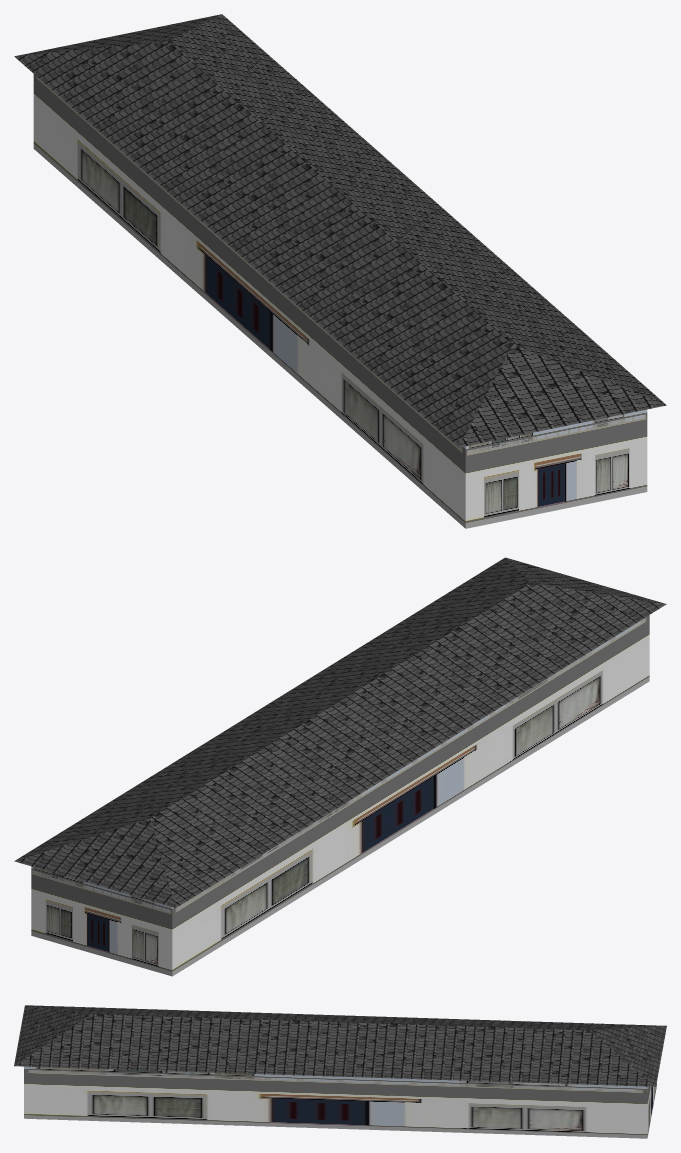
3 renders of one model, top to bottom at view 1: azimuth 30°, elevation 25°; view 2: azimuth 150°, elevation 25°; view 3: azimuth 270°, elevation 25°, orthographic. The views are drawn at different scales.
Visible parts, largest first — view 1: CityEngineMaterial_8_m, CityEngineMaterial_7_m; view 2: CityEngineMaterial_8_m, CityEngineMaterial_7_m; view 3: CityEngineMaterial_8_m, CityEngineMaterial_7_m.
Boxes of the visible parts, <box> form: CityEngineMaterial_8_m: <box>14,14,666,447</box>; CityEngineMaterial_7_m: <box>33,74,647,528</box>; CityEngineMaterial_8_m: <box>14,557,666,907</box>; CityEngineMaterial_7_m: <box>31,615,649,976</box>; CityEngineMaterial_8_m: <box>14,1005,666,1086</box>; CityEngineMaterial_7_m: <box>24,1066,656,1138</box>.
Bounding box in the file's own units: 19.69 × 8.99 × 66.56.
